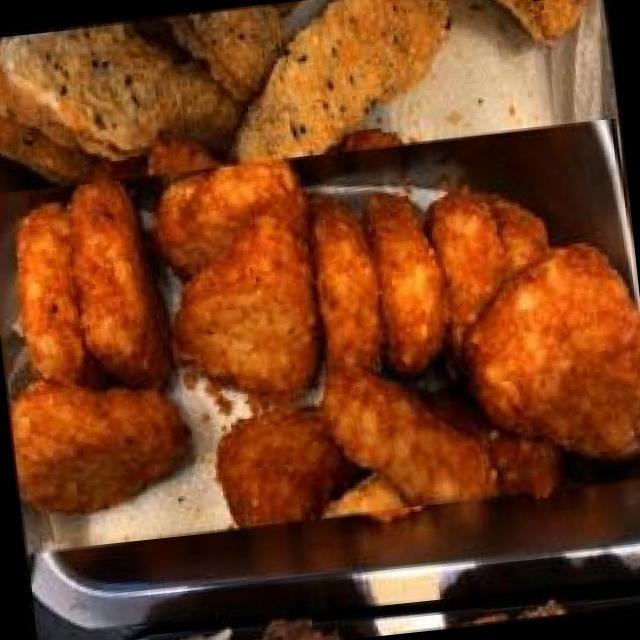triangle_hash_brown: (0, 117, 640, 555)
